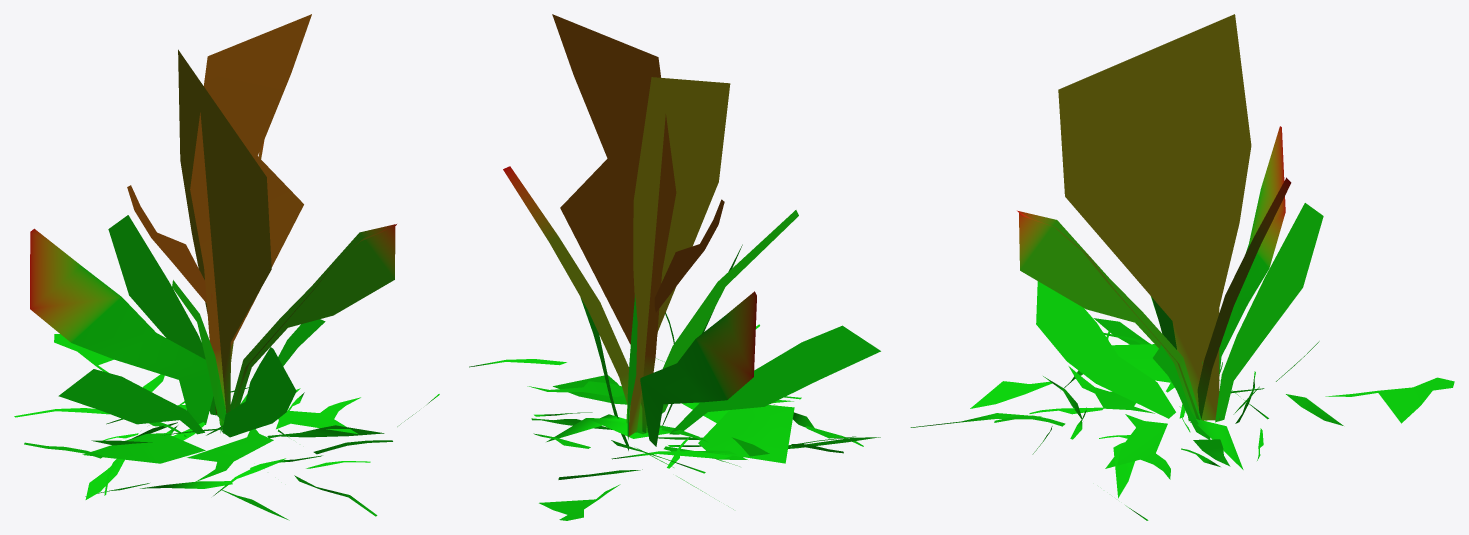
The model's file is Dead Shrubs_LOD0_Var10_vdknafgha.fbx.
3 views of the same model, side by side, from view 1: azimuth 30°, elevation 25°; view 2: azimuth 150°, elevation 25°; view 3: azimuth 270°, elevation 25° (orthographic). The views are drawn at different scales.
Parts seen in each view (by area): view 1: _nxjt_Var10_LOD0; view 2: _nxjt_Var10_LOD0; view 3: _nxjt_Var10_LOD0.
Boxes of the visible parts, x1,y1,x2,y2 form: _nxjt_Var10_LOD0: (14,14,439,520); _nxjt_Var10_LOD0: (469,14,880,520); _nxjt_Var10_LOD0: (910,14,1454,520).
Bounding box in the file's own units: 26.54 × 26.11 × 29.92.
